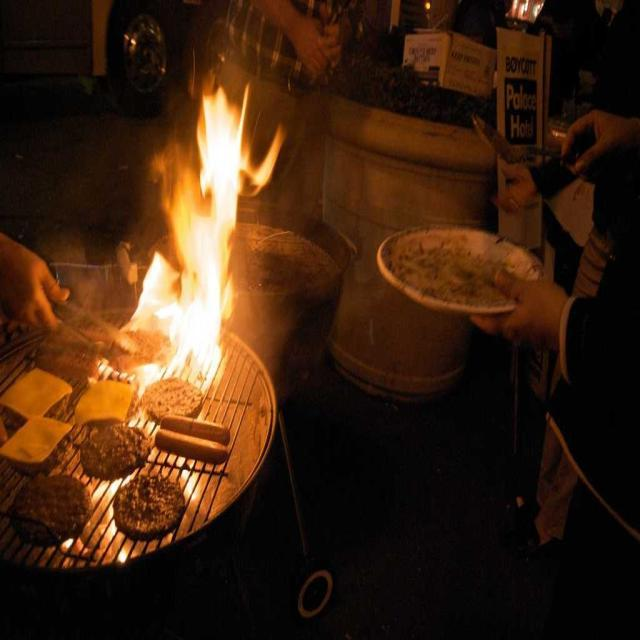Fire: (151, 76, 270, 384)
